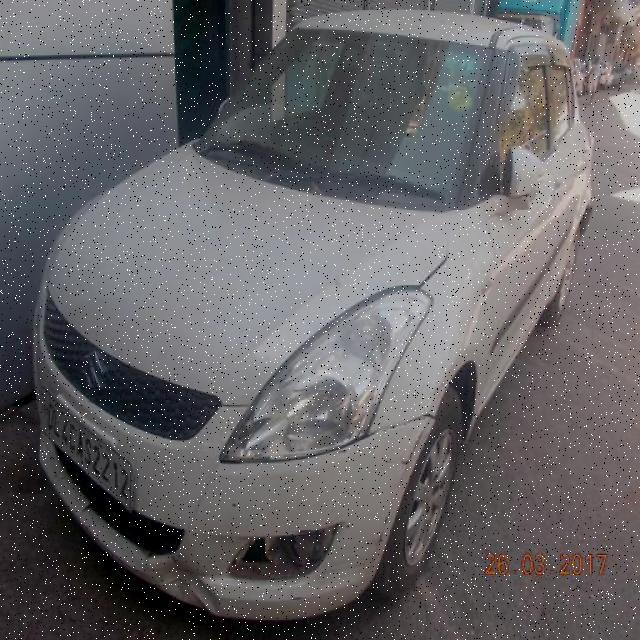car damage: (149, 565, 216, 612), (405, 424, 429, 472), (372, 507, 396, 554)
